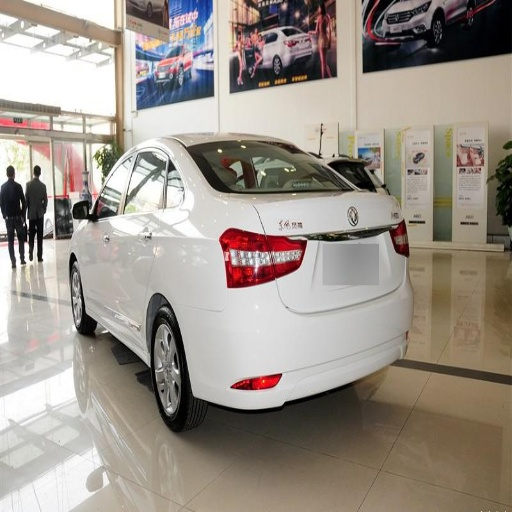back_bumper: (185, 252, 412, 412)
back_glass: (190, 140, 373, 191)
back_left_door: (118, 146, 171, 339)
back_left_light: (219, 228, 276, 286)
tailgate: (250, 190, 393, 309)
